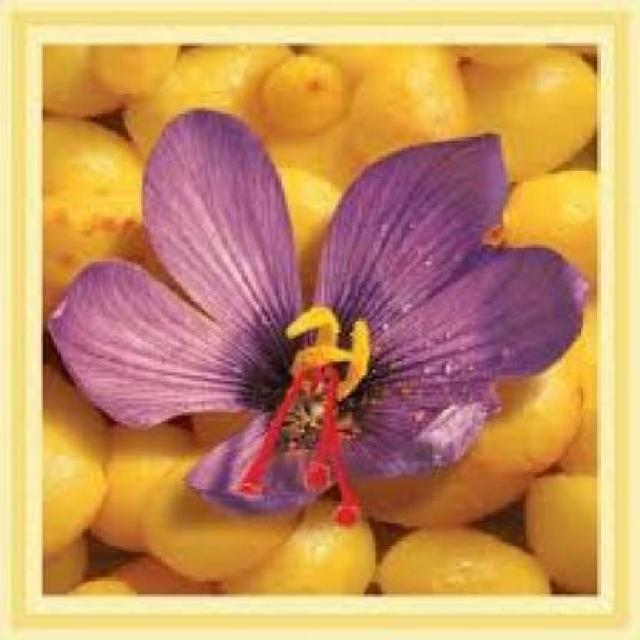saffron open: (50, 111, 585, 522)
